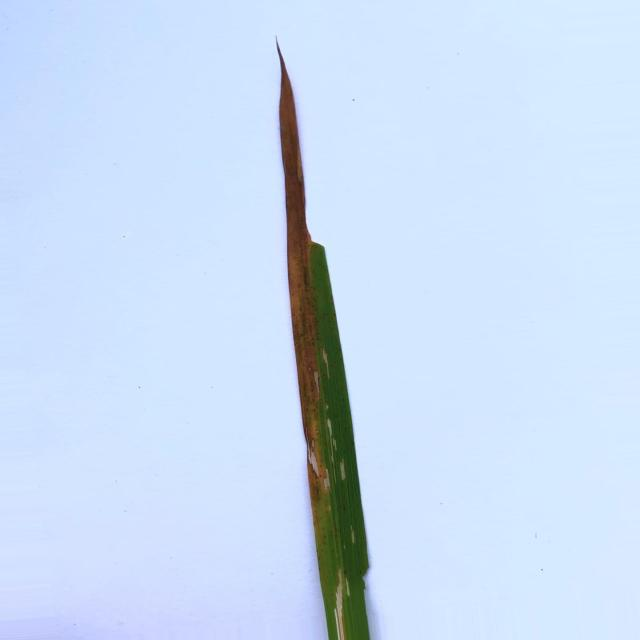Rice Tungro: (277, 44, 323, 561)
